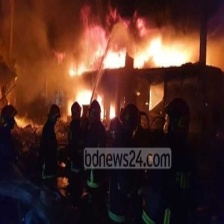fire: (56, 26, 208, 112)
